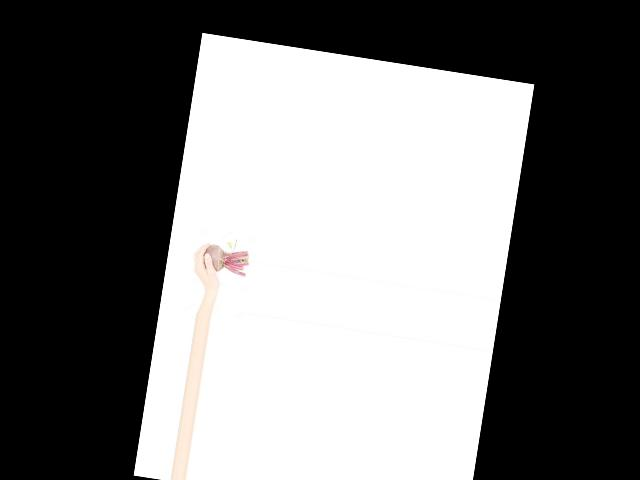beet: (201, 234, 252, 276)
